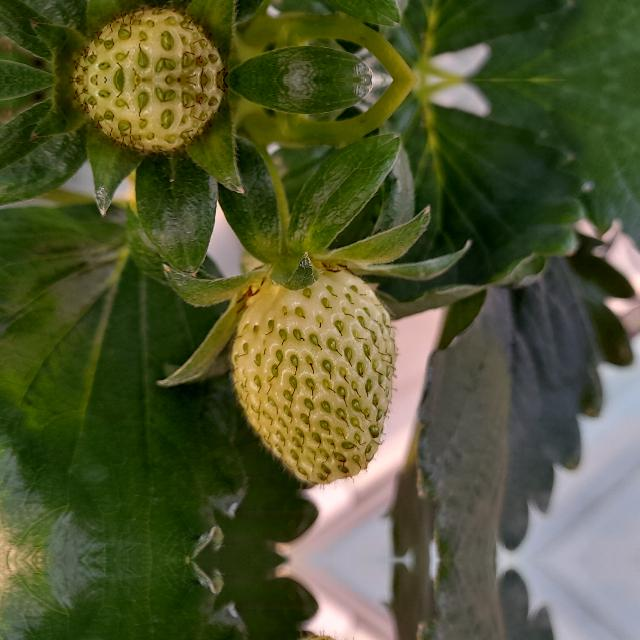Health_25: (228, 262, 400, 490), (72, 80, 226, 154), (72, 6, 226, 80)
